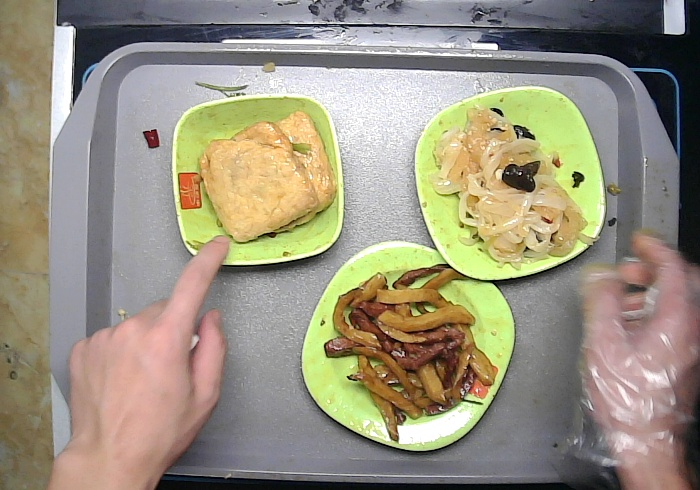SHKJ-Lv_Se_Cai_Die: (413, 84, 607, 281)
SHKJ-Lv_Se_Si_Fang_Cai_Die: (300, 240, 515, 454)
SHKJ-Lv_Se_Xiao_Fang_Die: (170, 93, 344, 265)
